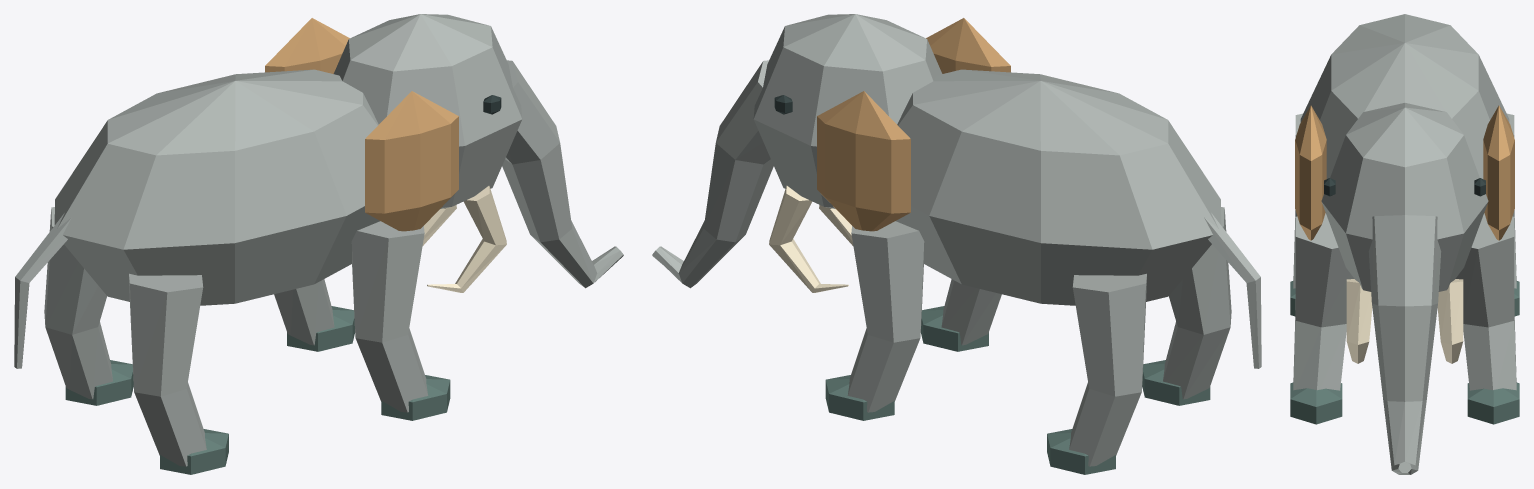
Rendered from prodeinotherium.2be76e83f457.glb.
The picture shows the model from 3 angles, left to right: view 1: azimuth 30°, elevation 25°; view 2: azimuth 150°, elevation 25°; view 3: azimuth 270°, elevation 25°; orthographic projection. The views are drawn at different scales.
Parts seen in each view (by area): view 1: prodeinotherium; view 2: prodeinotherium; view 3: prodeinotherium.
Part boxes in pixels (<box>): prodeinotherium: <box>14,14,623,474</box>; prodeinotherium: <box>652,14,1261,474</box>; prodeinotherium: <box>1290,14,1519,474</box>.
Bounding box in the file's own units: 1 × 0.5589 × 0.3484.
